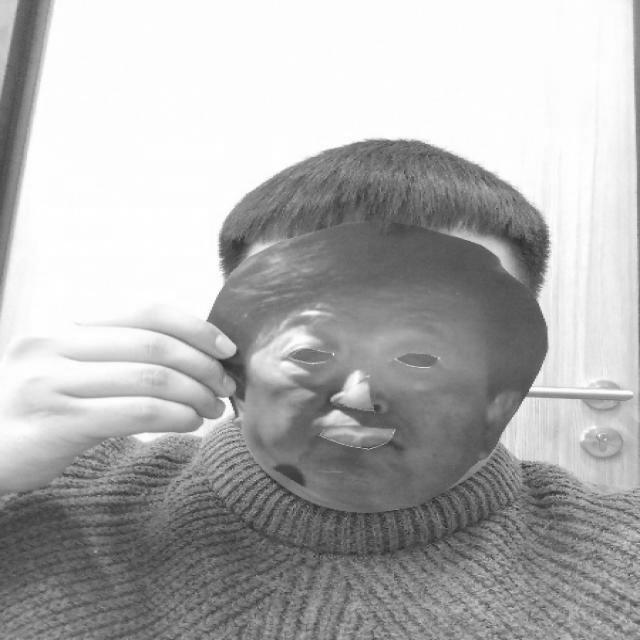real: (191, 219, 552, 507)
